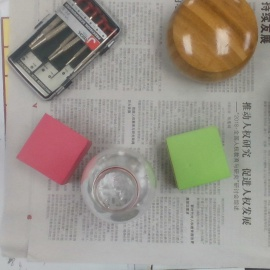bottle: (80, 146, 157, 225)
chess: (170, 1, 258, 84)
